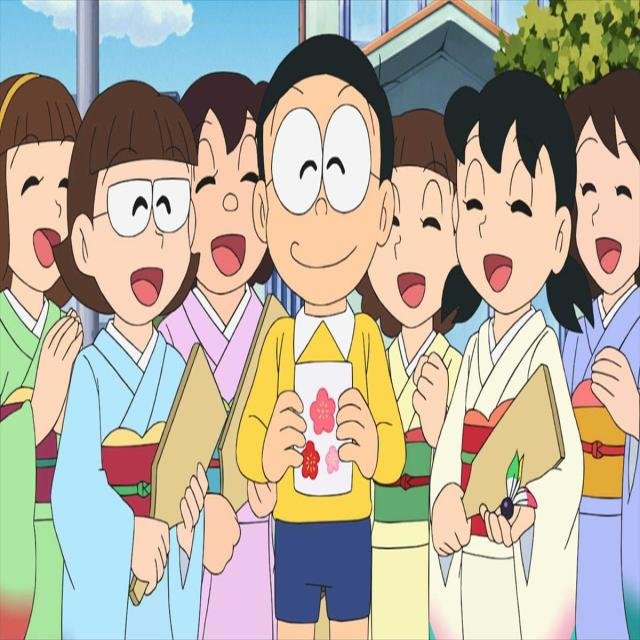nobita: (249, 21, 410, 372)
shizuka: (436, 60, 603, 399)
